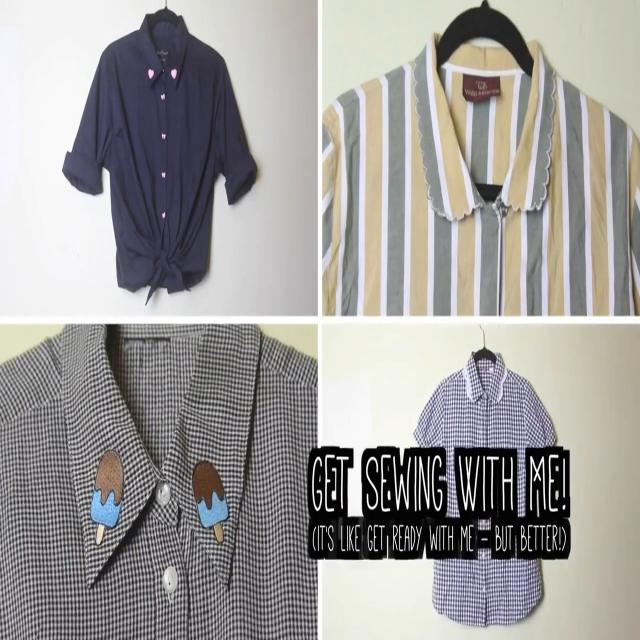Shirt: (0, 323, 318, 640), (322, 29, 640, 316), (61, 12, 259, 306), (410, 350, 558, 630)
